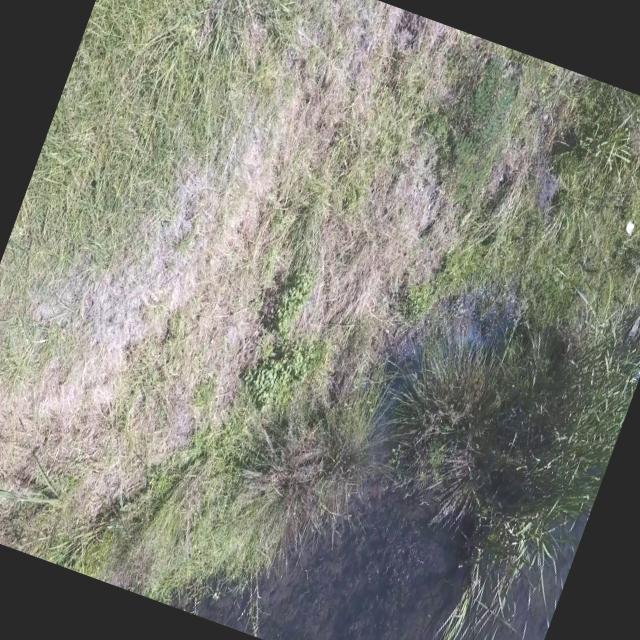Mysore-Thorn-Weed: (437, 53, 527, 210)
